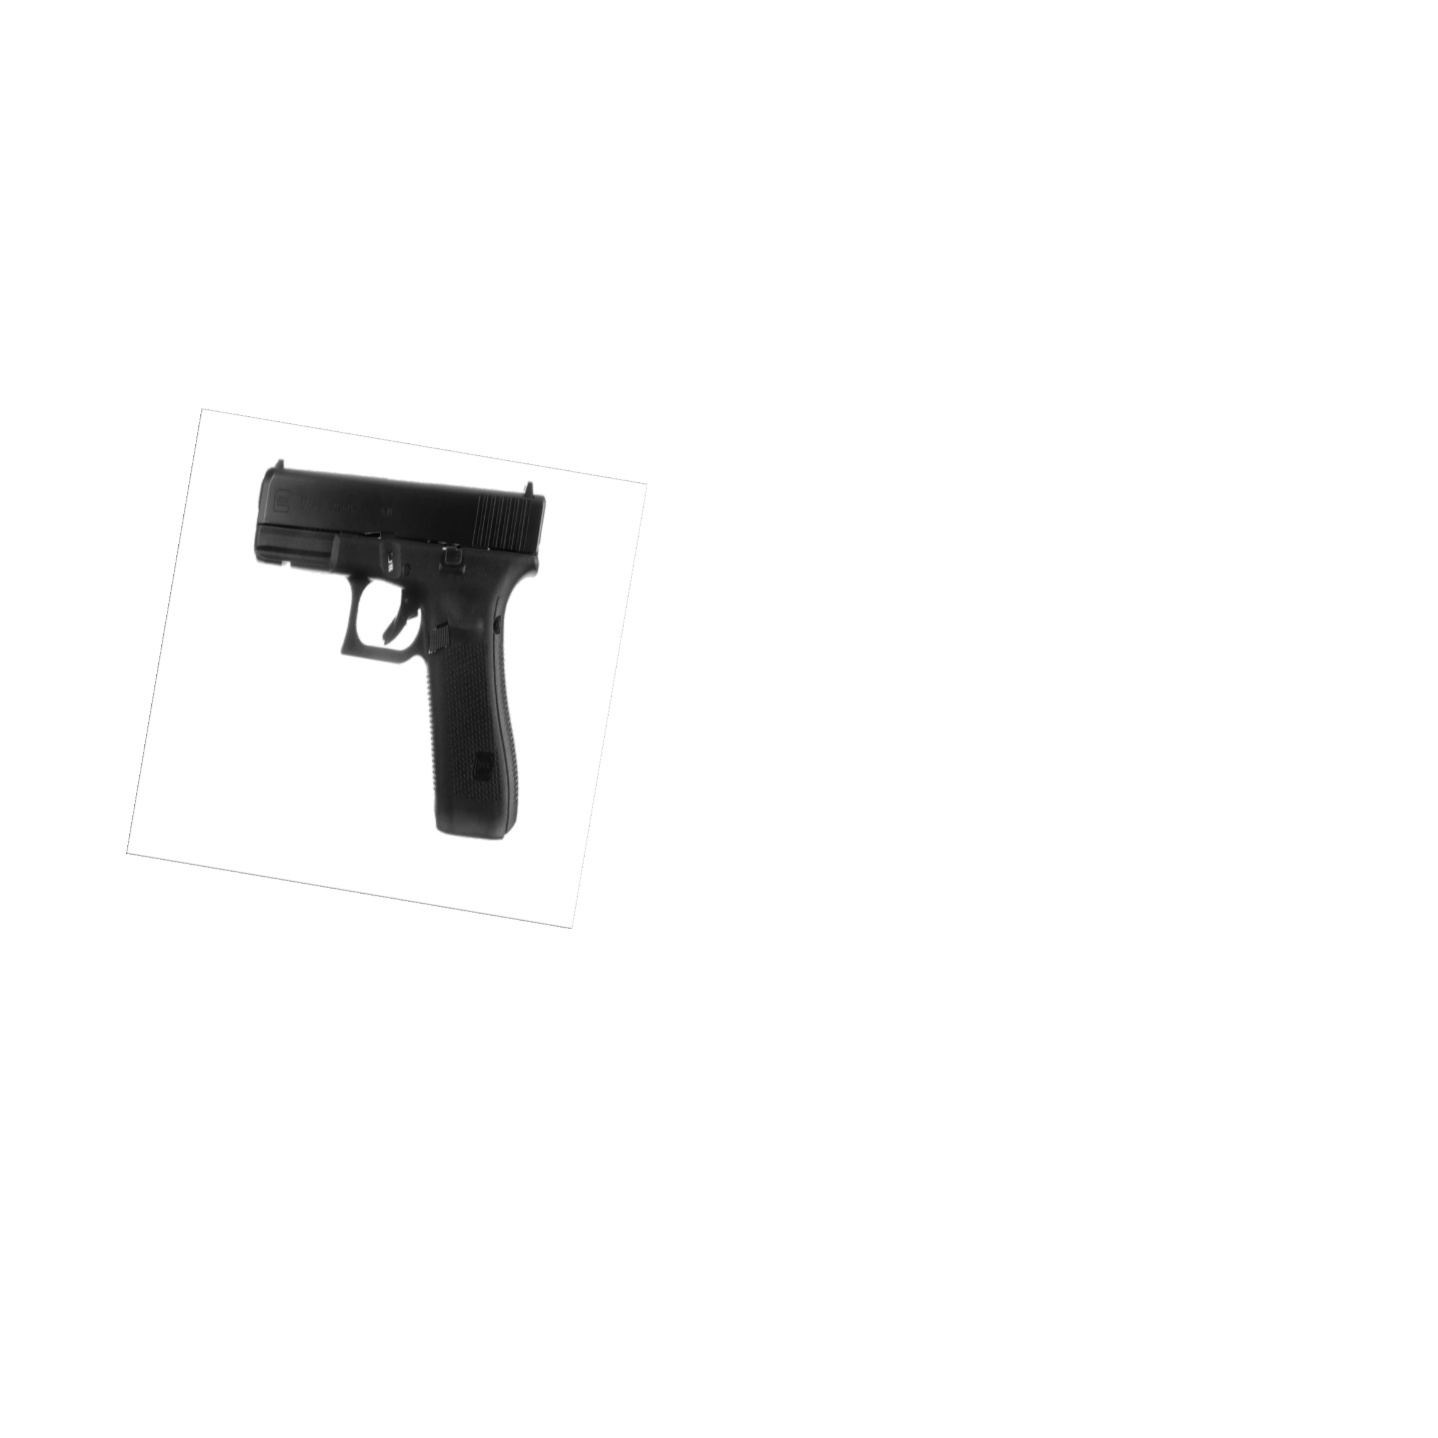gun: (257, 452, 546, 841)
